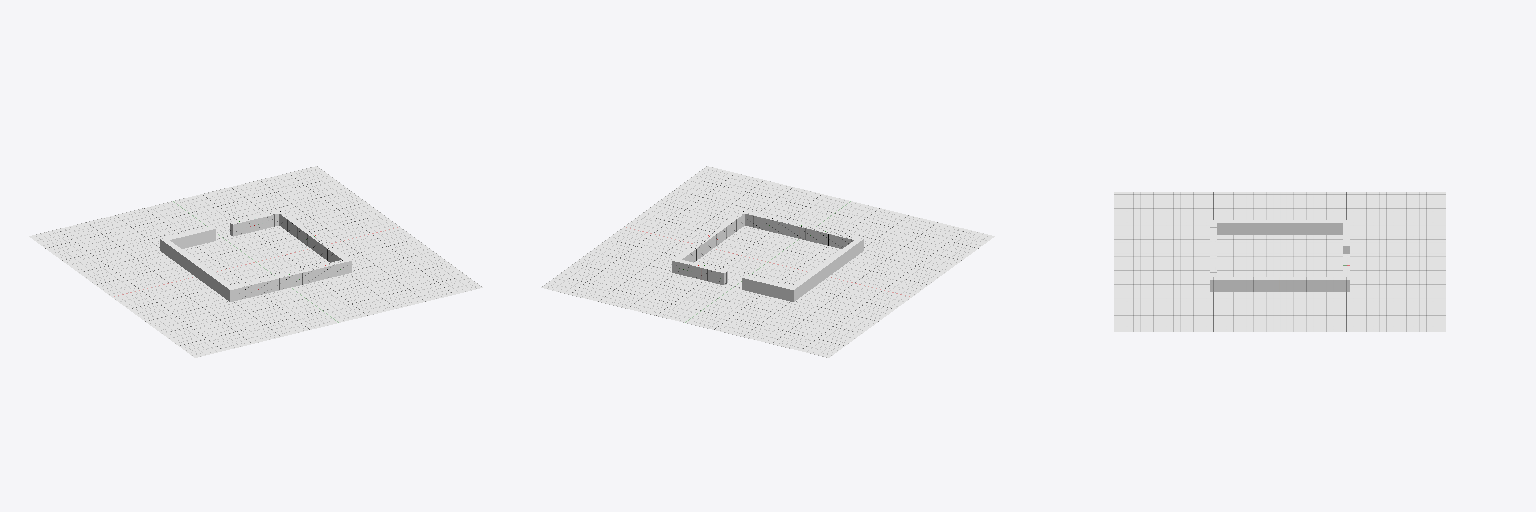
3 renders of one model, left to right at view 1: azimuth 30°, elevation 25°; view 2: azimuth 150°, elevation 25°; view 3: azimuth 270°, elevation 25°, orthographic.
Visible parts, largest first — view 1: object40, object24, object32, object16, object0, object8; view 2: object40, object24, object32, object16, object0, object8; view 3: object40, object16, object32.
Part boxes in pixels (left/top/right/bottom): object40: left=29, top=166, right=482, bottom=357; object24: left=233, top=260, right=345, bottom=300; object32: left=160, top=238, right=235, bottom=301; object16: left=276, top=210, right=351, bottom=273; object0: left=230, top=211, right=278, bottom=236; object8: left=167, top=227, right=215, bottom=248; object40: left=541, top=166, right=994, bottom=357; object24: left=745, top=211, right=856, bottom=248; object32: left=788, top=238, right=863, bottom=301; object16: left=672, top=210, right=747, bottom=273; object0: left=678, top=260, right=727, bottom=284; object8: left=742, top=275, right=790, bottom=300; object40: left=1114, top=192, right=1445, bottom=331; object16: left=1210, top=277, right=1349, bottom=291; object32: left=1210, top=220, right=1349, bottom=234.
Size of the model in its own units: 50 by 2 by 50.
Materials: 6 (4 with a texture image).